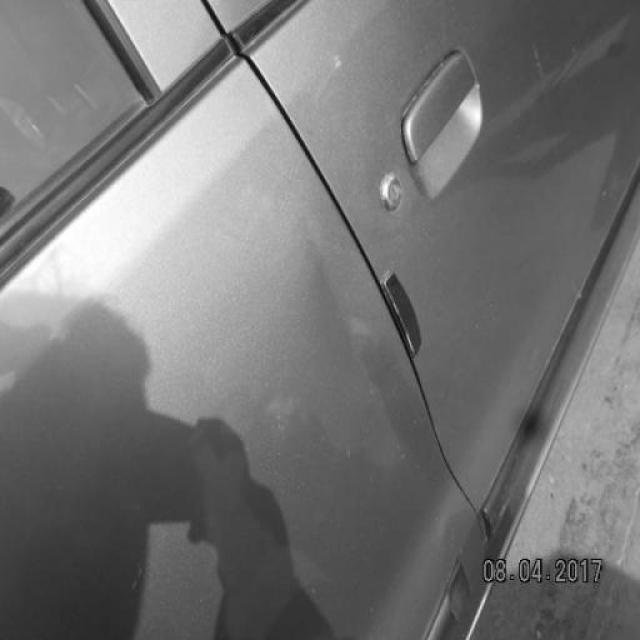dent: (304, 234, 408, 463)
